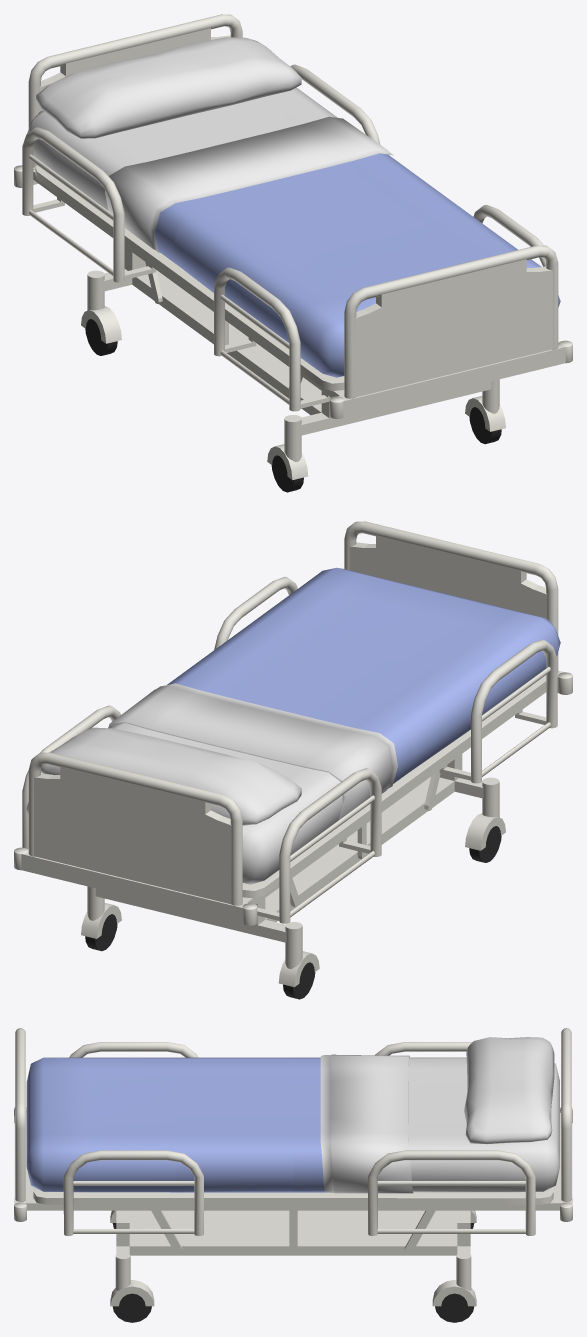
Rendered from sweethome3d-scopia-hospital-bed-199.glb.
3 renders of one model, top to bottom at view 1: azimuth 30°, elevation 25°; view 2: azimuth 150°, elevation 25°; view 3: azimuth 270°, elevation 25°, orthographic. The views are drawn at different scales.
Parts seen in each view (by area): view 1: FootProtection, MiddleMattress, sweethome3d_opening_on_hinge_1_TopMattress, sweethome3d_opening_on_hinge_1_Pillow, sweethome3d_opening_on_hinge_2_FootMattress, sweethome3d_opening_on_hinge_1_Quilt, BaseAndWheels, HeadProtection, BaseFootProtection, sweethome3d_opening_on_rail_1_FallBarrierTopRight, sweethome3d_opening_on_rail_3_FallBarrierLowerRight, sweethome3d_opening_on_hinge_1_TopBaseMattress (+5 smaller); view 2: HeadProtection, sweethome3d_opening_on_hinge_2_FootMattress, MiddleMattress, sweethome3d_opening_on_hinge_1_Quilt, BaseAndWheels, FootProtection, sweethome3d_opening_on_hinge_1_TopMattress, sweethome3d_opening_on_hinge_1_Pillow, BaseHeadProtection, sweethome3d_opening_on_rail_1_FallBarrierTopRight, sweethome3d_opening_on_rail_3_FallBarrierLowerRight, sweethome3d_opening_on_hinge_1_TopBaseMattress (+5 smaller); view 3: BaseAndWheels, sweethome3d_opening_on_hinge_2_FootMattress, MiddleMattress, sweethome3d_opening_on_hinge_1_TopMattress, sweethome3d_opening_on_hinge_1_Quilt, sweethome3d_opening_on_hinge_1_Pillow, sweethome3d_opening_on_rail_2_FallBarrierTopLeft, BedBase, sweethome3d_opening_on_rail_4_FallBarrierLowerLeft, sweethome3d_opening_on_hinge_1_TopBaseMattress, FootProtection, HeadProtection (+6 smaller).
Part boxes in pixels (x1,y1,x2,y2): FootProtection: [344, 245, 558, 398]; MiddleMattress: [173, 167, 475, 309]; sweethome3d_opening_on_hinge_1_TopMattress: [27, 87, 408, 266]; sweethome3d_opening_on_hinge_1_Pillow: [35, 37, 301, 138]; sweethome3d_opening_on_hinge_2_FootMattress: [240, 216, 560, 377]; sweethome3d_opening_on_hinge_1_Quilt: [105, 116, 393, 252]; BaseAndWheels: [81, 247, 505, 492]; HeadProtection: [28, 14, 242, 167]; BaseFootProtection: [329, 340, 572, 418]; sweethome3d_opening_on_rail_1_FallBarrierTopRight: [22, 127, 124, 282]; sweethome3d_opening_on_rail_3_FallBarrierLowerRight: [214, 267, 300, 411]; sweethome3d_opening_on_hinge_1_TopBaseMattress: [35, 165, 187, 283]; HeadProtection: [28, 752, 242, 905]; sweethome3d_opening_on_hinge_2_FootMattress: [246, 567, 560, 714]; MiddleMattress: [178, 625, 477, 773]; sweethome3d_opening_on_hinge_1_Quilt: [108, 683, 397, 819]; BaseAndWheels: [81, 754, 505, 999]; FootProtection: [344, 521, 558, 672]; sweethome3d_opening_on_hinge_1_TopMattress: [26, 674, 413, 884]; sweethome3d_opening_on_hinge_1_Pillow: [41, 727, 301, 825]; BaseHeadProtection: [14, 847, 257, 925]; sweethome3d_opening_on_rail_1_FallBarrierTopRight: [279, 768, 381, 923]; sweethome3d_opening_on_rail_3_FallBarrierLowerRight: [471, 639, 557, 783]; sweethome3d_opening_on_hinge_1_TopBaseMattress: [242, 780, 406, 898]; BaseAndWheels: [110, 1210, 476, 1322]; sweethome3d_opening_on_hinge_2_FootMattress: [26, 1057, 176, 1192]; MiddleMattress: [176, 1057, 293, 1192]; sweethome3d_opening_on_hinge_1_TopMattress: [293, 1057, 559, 1192]; sweethome3d_opening_on_hinge_1_Quilt: [320, 1054, 413, 1193]; sweethome3d_opening_on_hinge_1_Pillow: [464, 1037, 554, 1144]; sweethome3d_opening_on_rail_2_FallBarrierTopLeft: [368, 1150, 535, 1235]; BedBase: [26, 1113, 560, 1210]; sweethome3d_opening_on_rail_4_FallBarrierLowerLeft: [63, 1150, 203, 1235]; sweethome3d_opening_on_hinge_1_TopBaseMattress: [293, 1187, 553, 1204]; FootProtection: [15, 1028, 25, 1201]; HeadProtection: [561, 1028, 571, 1201].
Size of the model in its own units: 99.89 by 87.96 by 210.
